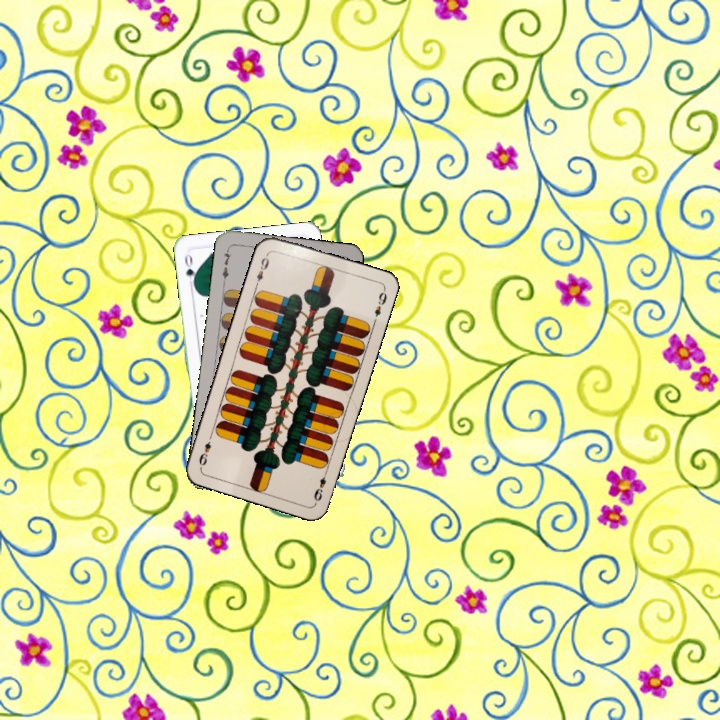E7: (218, 245, 234, 285)
E9: (252, 249, 272, 288), (310, 466, 330, 505)
GO: (181, 249, 199, 290)
